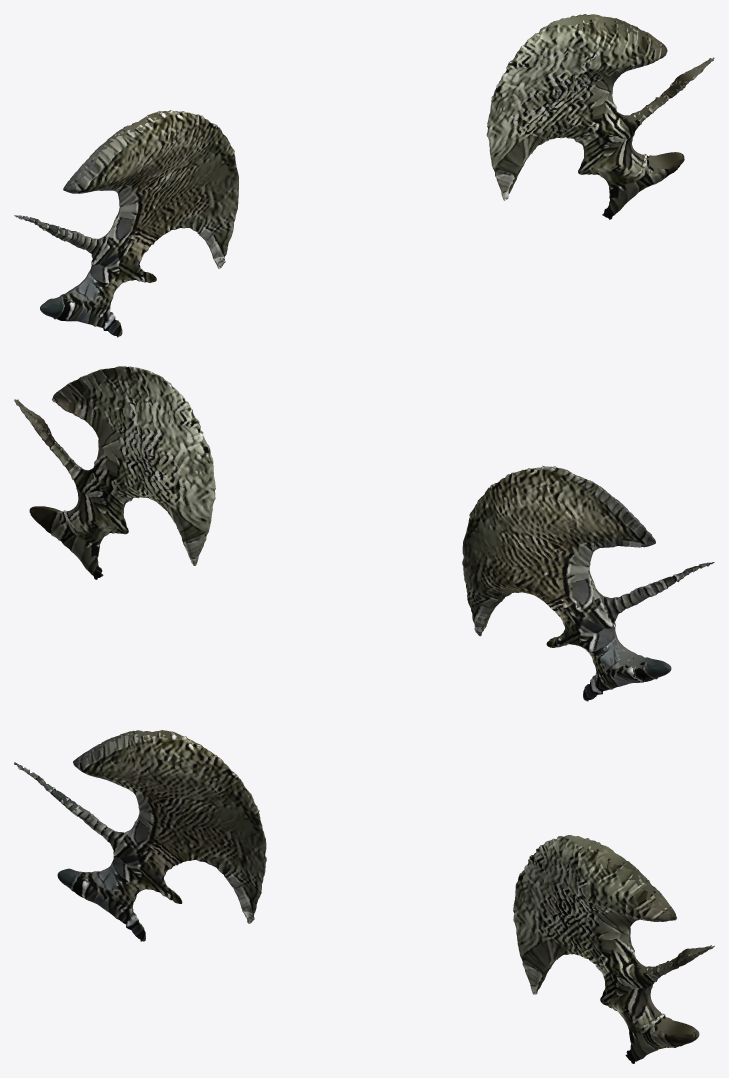
Rendered from kfl-2183.glb.
3 views of the same model, one above another, from view 1: azimuth 30°, elevation 25°; view 2: azimuth 150°, elevation 25°; view 3: azimuth 330°, elevation 25° (orthographic).
Parts seen in each view (by area): view 1: kfl-2183; view 2: kfl-2183; view 3: kfl-2183.
Boxes of the visible parts, box(x1,y1,x2,y2) form: kfl-2183: box(14, 14, 714, 337); kfl-2183: box(14, 366, 714, 701); kfl-2183: box(14, 730, 714, 1063).
Size of the model in its own units: 0.9841 by 0.298 by 0.0855.
4 materials, 4 textured.
